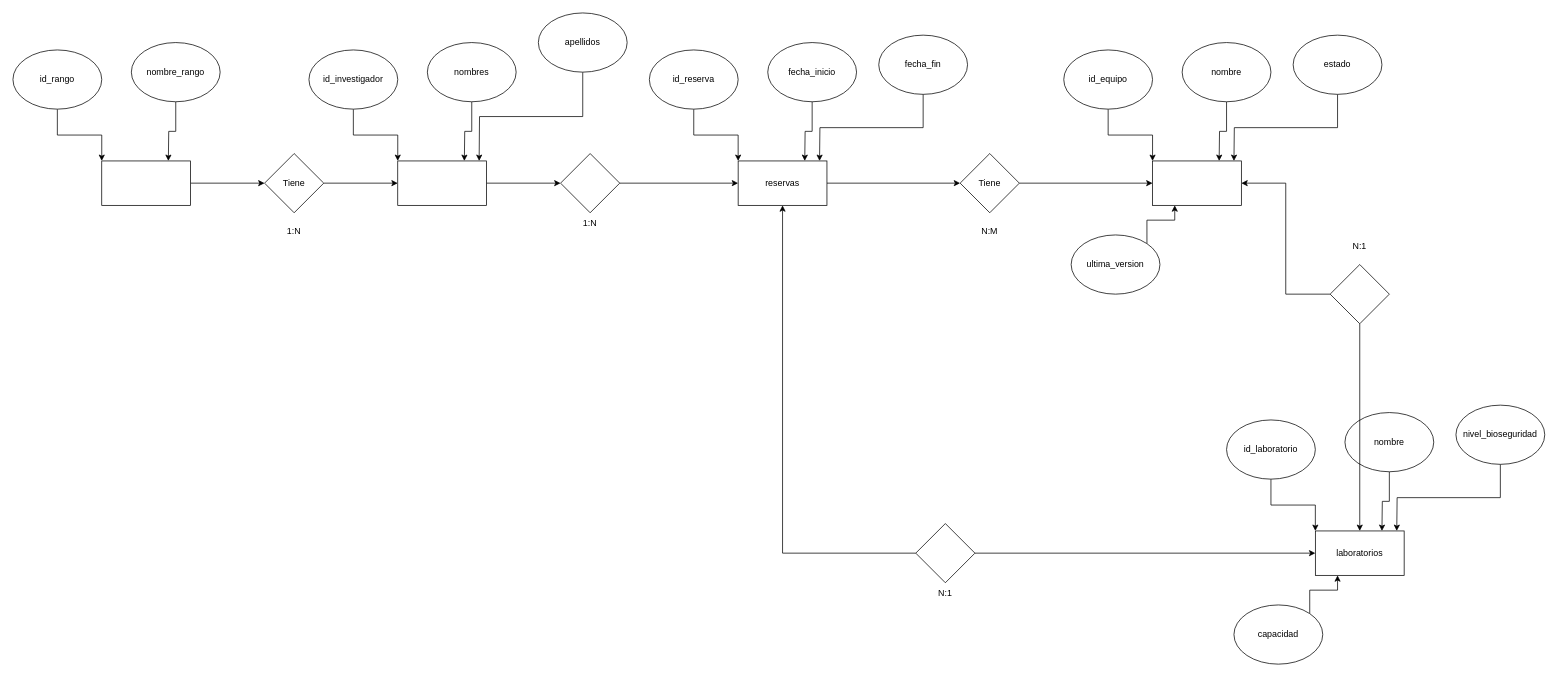
Image size: 1558x677. Some labels were removed from this diagram. The shapes that lost their labels are listed below. From the top down, each one's box as (x1, y1, x2, y2) in pixels, then its label:
(101, 160, 191, 205): rangos_investigador
(397, 160, 487, 205): investigadores
(560, 153, 620, 213): Tienen
(1152, 160, 1241, 205): equipos
(1329, 264, 1389, 324): Es De
(915, 523, 975, 583): se asignan
